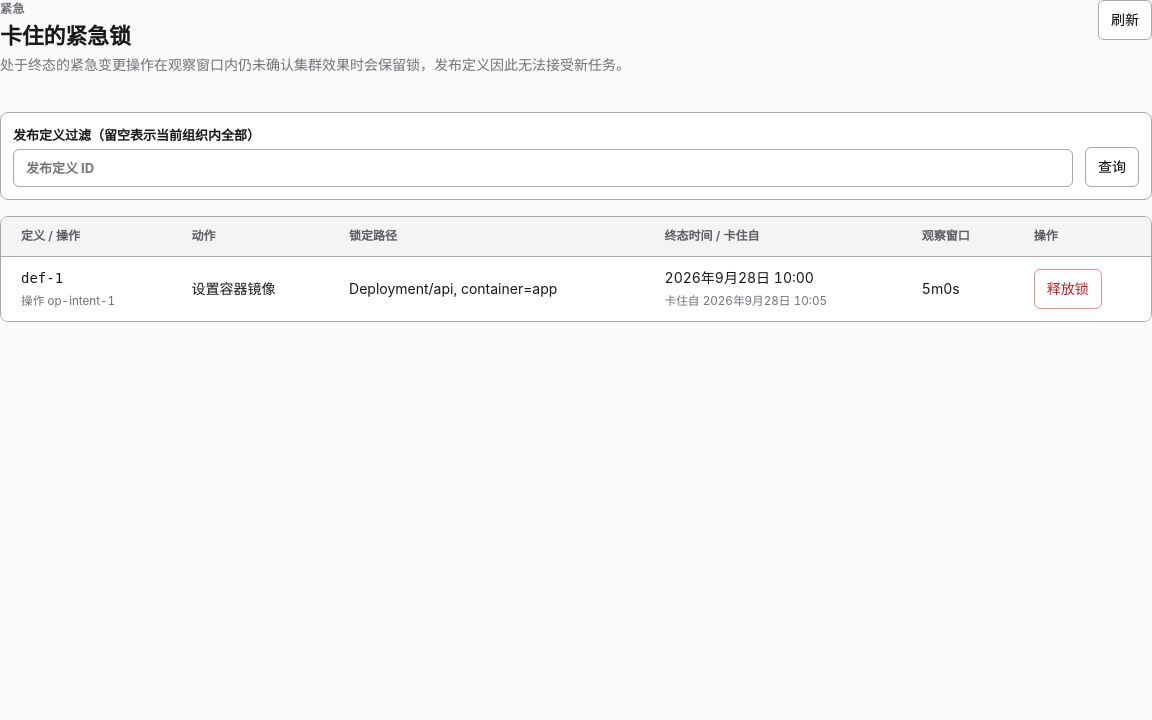
it: StuckLocksPage › requires a reason, then a mode, then the acknowledgement
Click the button "释放锁": (1068, 289) left=1034, top=269, right=1102, bottom=309
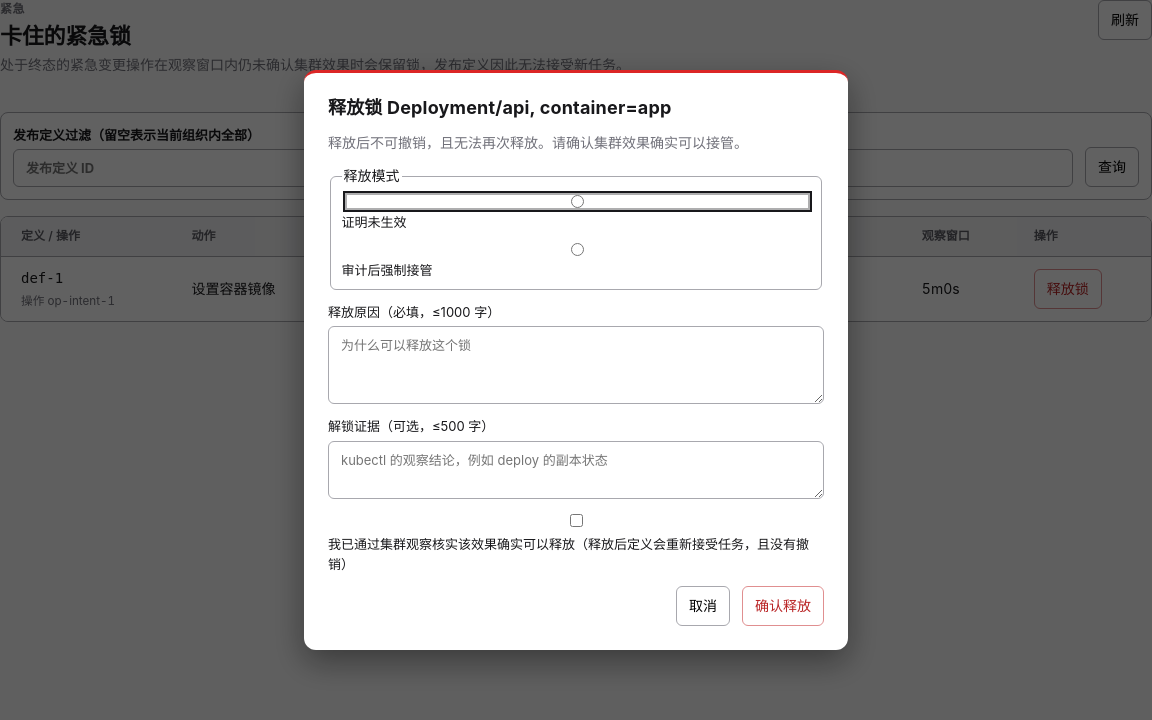
Submit the form with class "stuck__form", box left=328, top=165, right=824, bottom=626
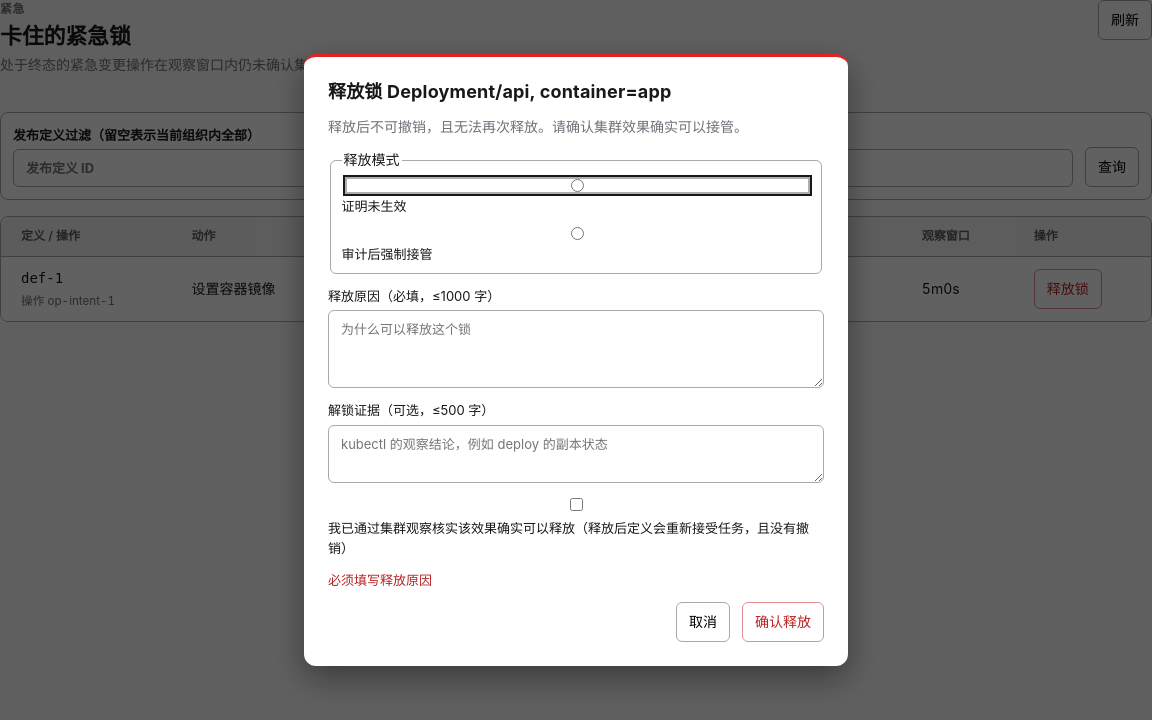
Now the message with test id "stuck-validation" reads "必须填写释放原因", box left=328, top=572, right=432, bottom=588
In the text box labelled "释放原因（必填，≤1000 字）": (576, 349) left=328, top=310, right=824, bottom=388, type "because"
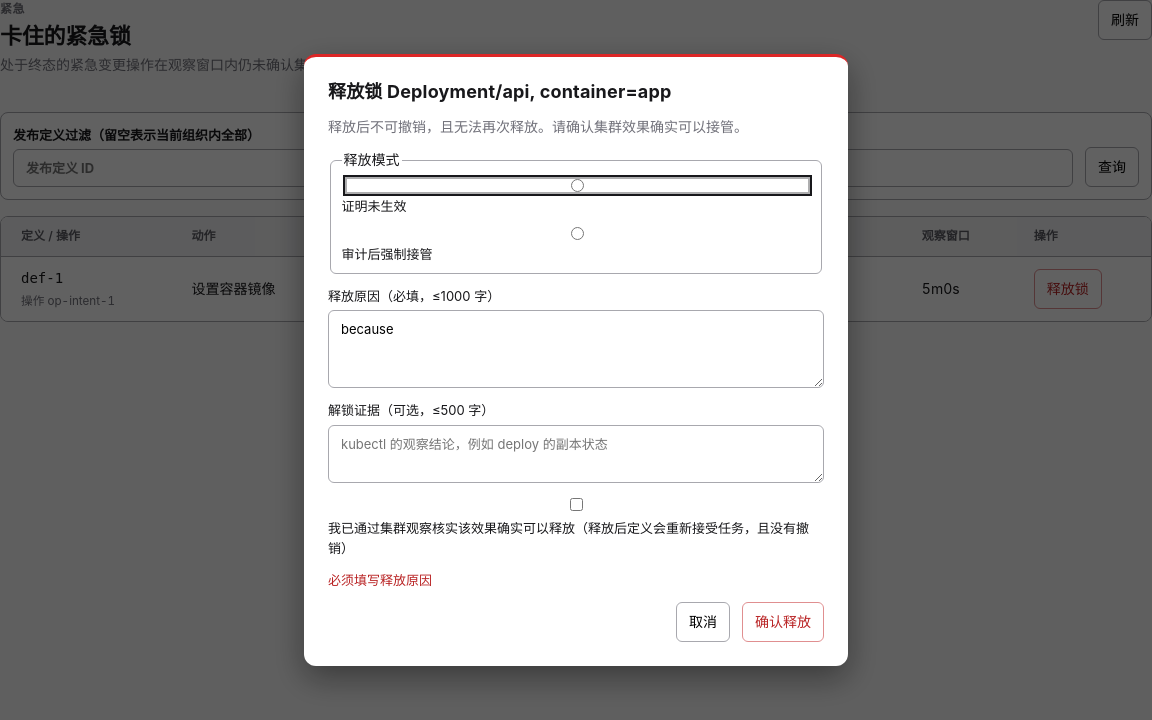
Submit the form with class "stuck__form", box left=328, top=149, right=824, bottom=642
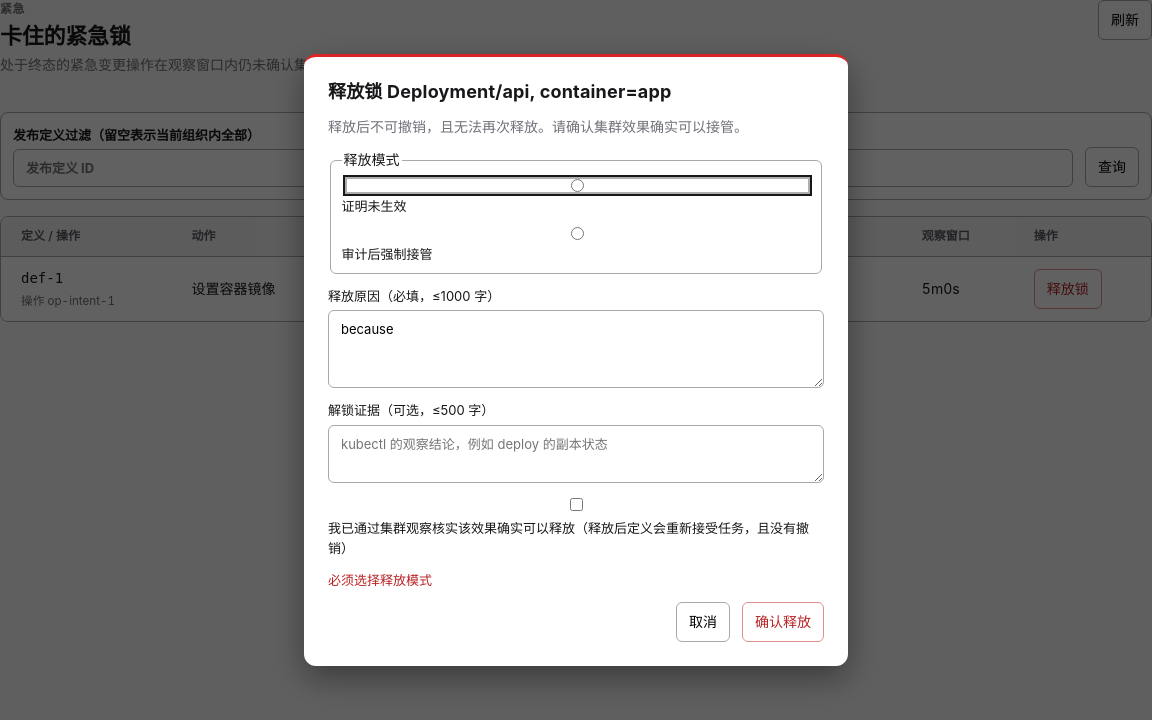
Now the message with test id "stuck-validation" reads "必须选择释放模式", box left=328, top=572, right=432, bottom=588
Click the radio button labelled "审计后强制接管": (577, 234) left=346, top=227, right=808, bottom=240
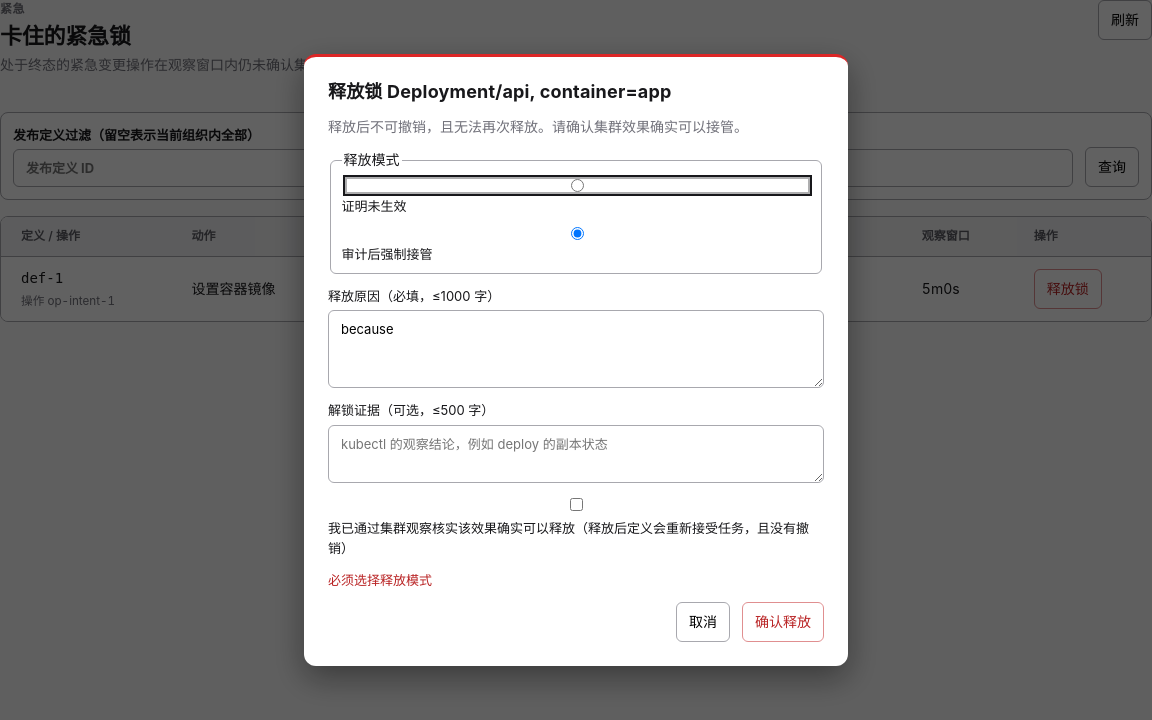
Submit the form with class "stuck__form", box left=328, top=149, right=824, bottom=642
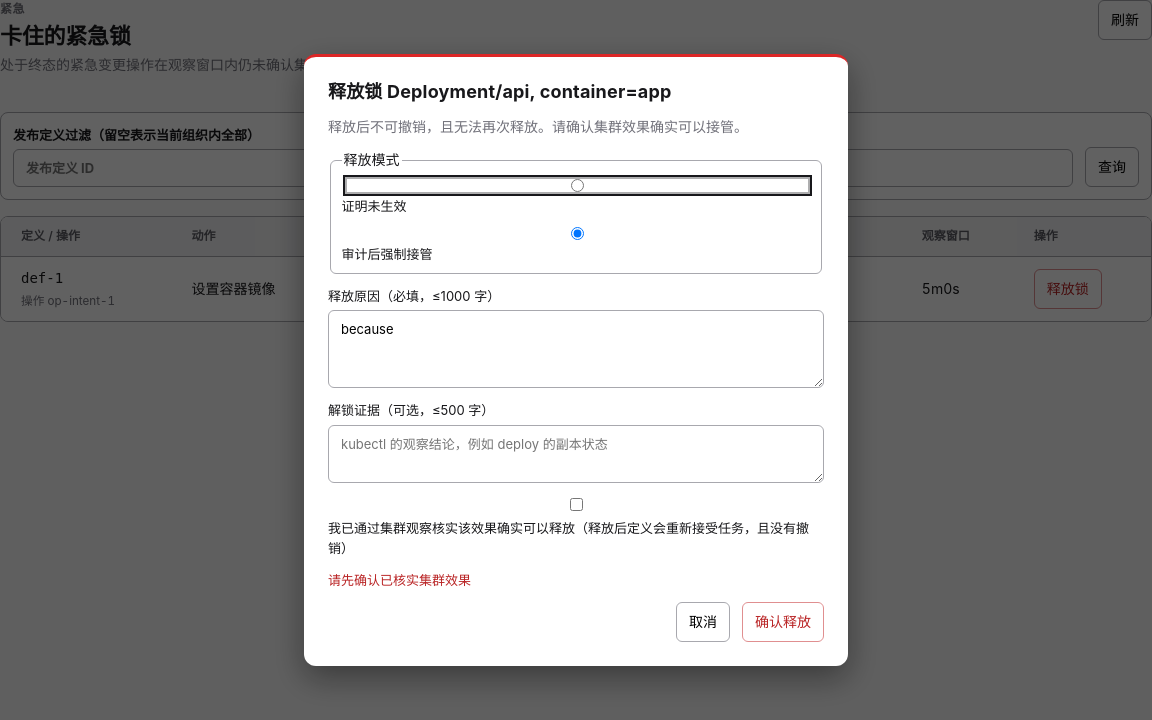
Now the message with test id "stuck-validation" reads "请先确认已核实集群效果", box left=328, top=572, right=471, bottom=588
